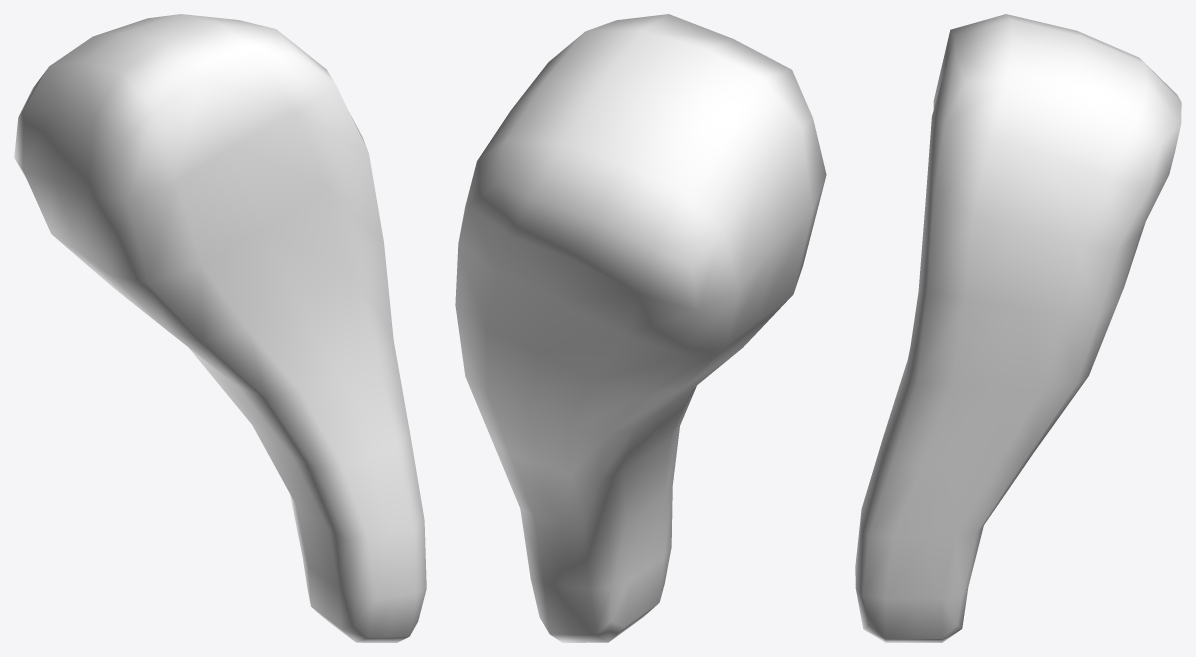
Rendered from rhair.obj.
The picture shows the model from 3 angles, left to right: view 1: azimuth 30°, elevation 25°; view 2: azimuth 150°, elevation 25°; view 3: azimuth 270°, elevation 25°; orthographic projection. The views are drawn at different scales.
Visible parts, largest first — view 1: polySurface3 pasted__Geo_Head_Feather4 group; view 2: polySurface3 pasted__Geo_Head_Feather4 group; view 3: polySurface3 pasted__Geo_Head_Feather4 group.
Part boxes in pixels (x1,y1,x2,y2): polySurface3 pasted__Geo_Head_Feather4 group: (14, 14, 426, 642); polySurface3 pasted__Geo_Head_Feather4 group: (455, 14, 826, 642); polySurface3 pasted__Geo_Head_Feather4 group: (855, 14, 1181, 642).
Size of the model in its own units: 0.9959 by 2.07 by 1.11.
Materials: 1 (1 with a texture image).
